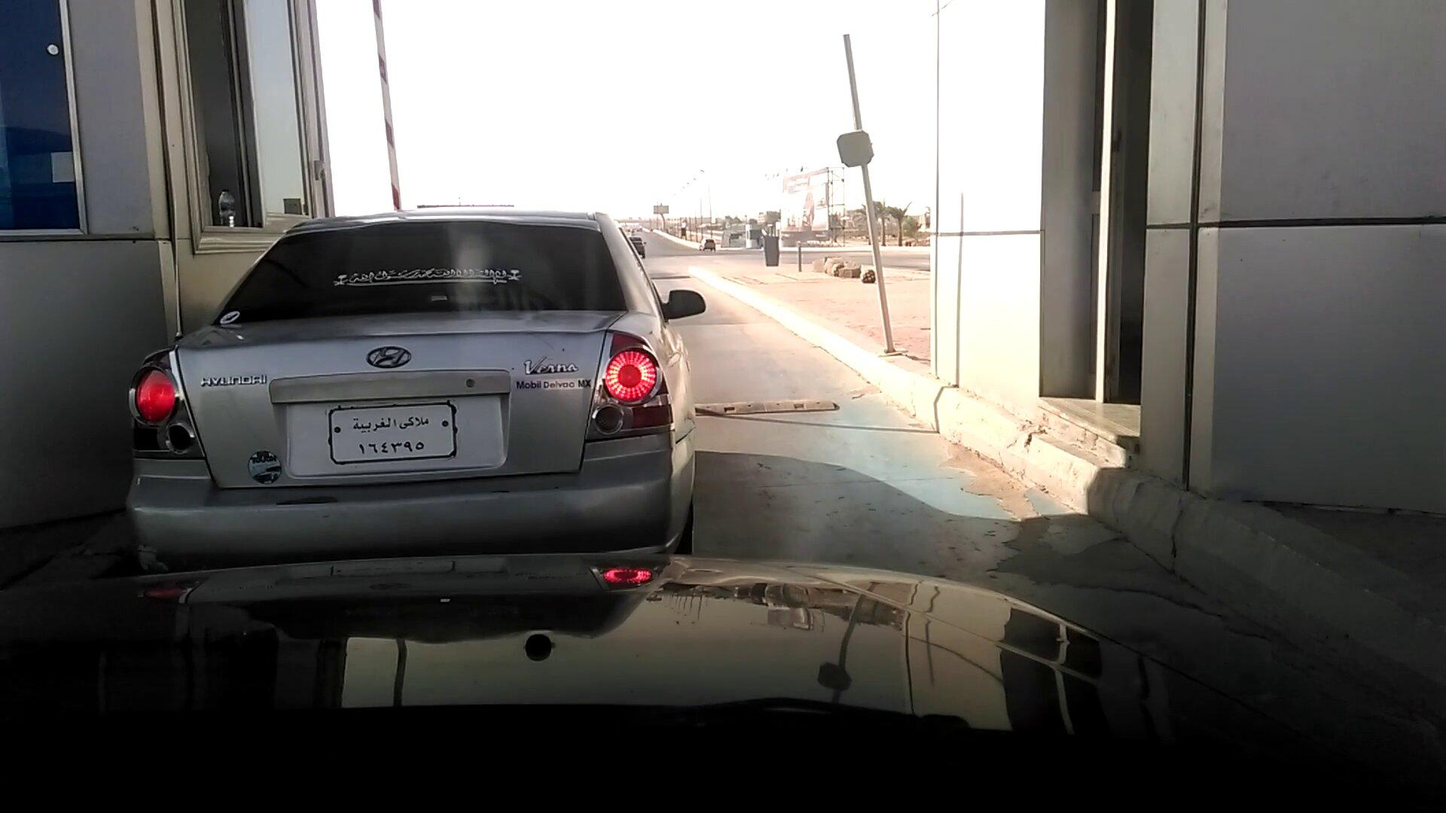Bump: (697, 395, 847, 420)
